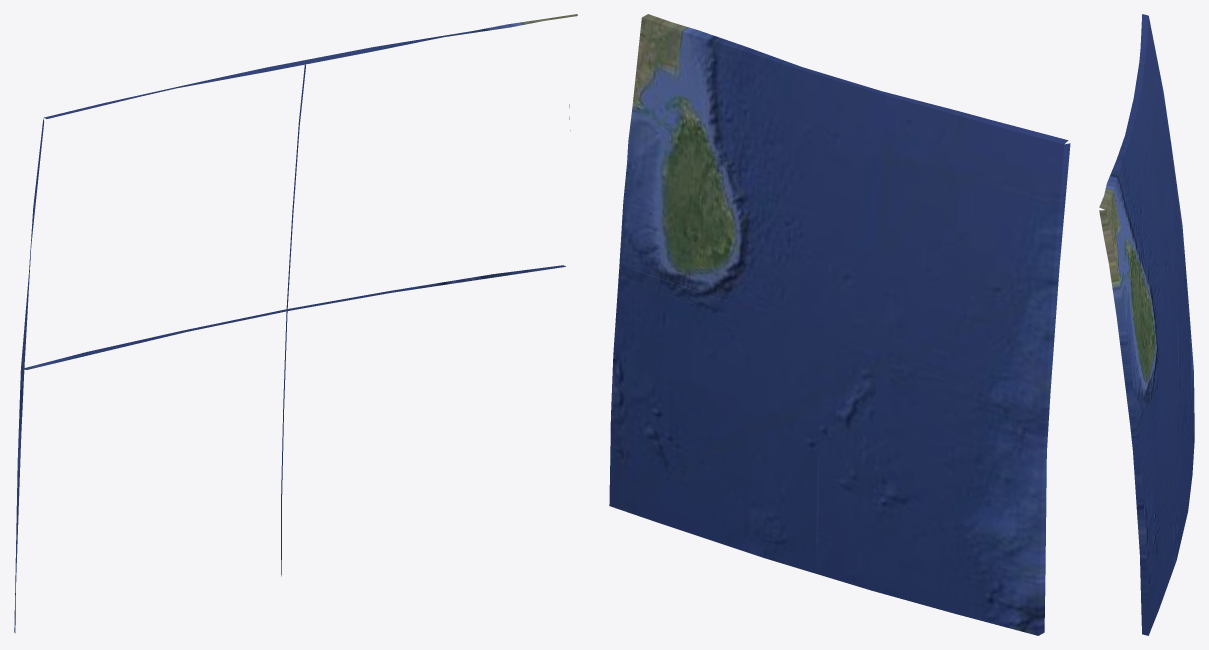
3 views of the same model, side by side, from view 1: azimuth 30°, elevation 25°; view 2: azimuth 150°, elevation 25°; view 3: azimuth 270°, elevation 25° (orthographic). The views are drawn at different scales.
Bounding box in the file's own units: 1258228 × 1252801 × 255003.
1 material, 1 textured.
